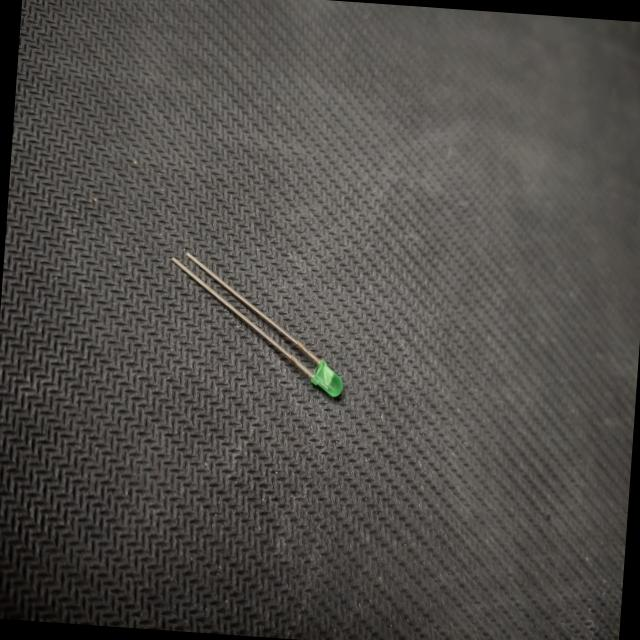led: (154, 237, 362, 408)
